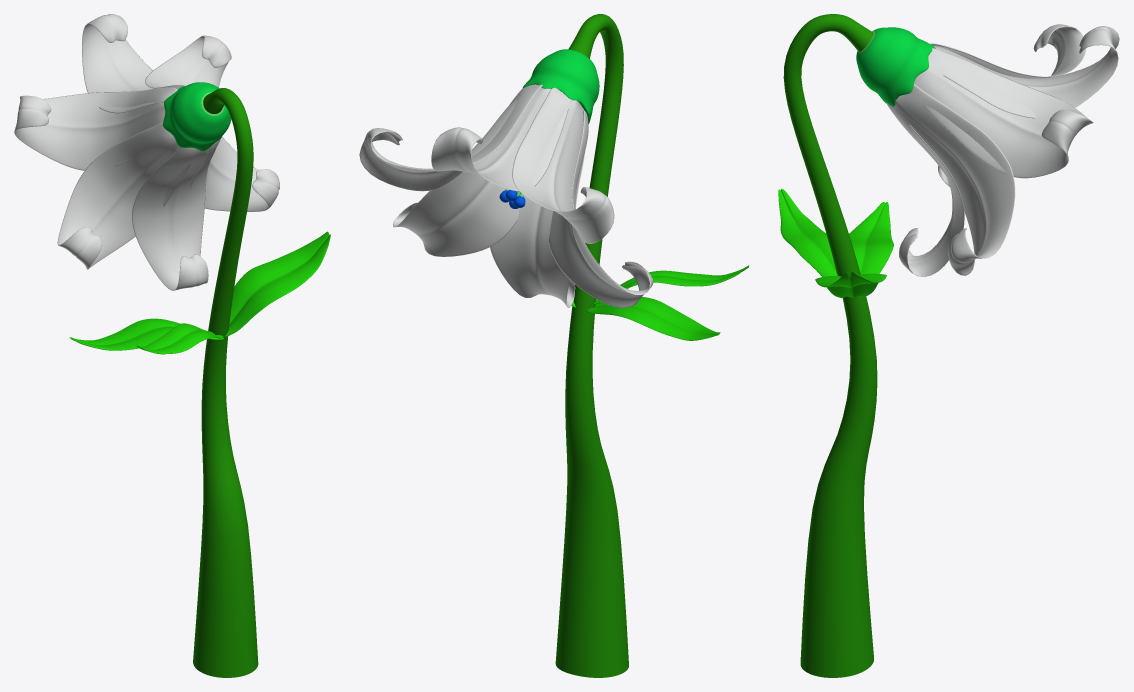
Rendered from Datura.fbx.
3 renders of one model, left to right at view 1: azimuth 30°, elevation 25°; view 2: azimuth 150°, elevation 25°; view 3: azimuth 270°, elevation 25°, orthographic. The views are drawn at different scales.
Visible parts, largest first — view 1: Cylinder, Circle.005, Circle.002, Circle, Circle.001, Circle.017, Sphere.001, Circle.003, Circle.004, Circle.015, Circle.016; view 2: Cylinder, Circle.002, Circle.003, Circle.001, Circle, Circle.005, Circle.004, Sphere.001, Circle.015, Circle.016; view 3: Cylinder, Circle.004, Circle.003, Circle.001, Sphere.001, Circle.016, Circle, Circle.002, Circle.015, Circle.017.
Part boxes in pixels (x1,y1,x2,y2): Cylinder: [193, 88, 258, 677]; Circle.005: [57, 122, 191, 269]; Circle.002: [14, 87, 177, 170]; Circle: [132, 147, 215, 290]; Circle.001: [82, 14, 180, 113]; Circle.017: [225, 231, 330, 336]; Sphere.001: [163, 82, 231, 151]; Circle.003: [189, 137, 279, 211]; Circle.004: [145, 35, 231, 88]; Circle.015: [69, 318, 223, 350]; Circle.016: [136, 323, 223, 354]; Cylinder: [555, 14, 628, 677]; Circle.002: [512, 87, 614, 243]; Circle.003: [393, 171, 519, 256]; Circle.001: [431, 87, 571, 191]; Circle: [490, 151, 585, 307]; Circle.005: [549, 109, 653, 307]; Circle.004: [359, 84, 542, 191]; Sphere.001: [499, 49, 599, 208]; Circle.015: [586, 297, 720, 340]; Circle.016: [593, 265, 749, 304]; Cylinder: [783, 14, 877, 677]; Circle.004: [914, 48, 1093, 178]; Circle.003: [886, 84, 1015, 275]; Circle.001: [934, 26, 1119, 118]; Sphere.001: [856, 27, 935, 106]; Circle.016: [778, 189, 837, 276]; Circle: [899, 124, 964, 276]; Circle.002: [930, 24, 1086, 78]; Circle.015: [849, 202, 893, 274]; Circle.017: [815, 271, 886, 298].
Size of the model in its own units: 172 by 383 by 183.
